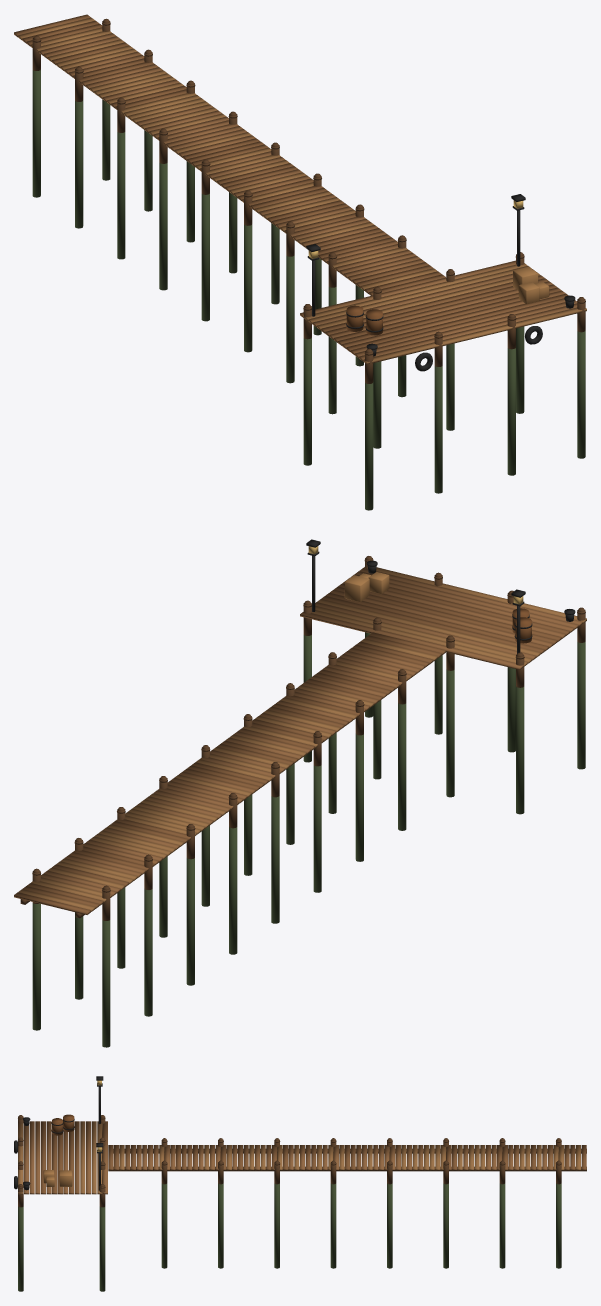
The model's file is pier.glb.
3 views of the same model, one above another, from view 1: azimuth 30°, elevation 25°; view 2: azimuth 150°, elevation 25°; view 3: azimuth 270°, elevation 25° (orthographic). The views are drawn at different scales.
Parts seen in each view (by area): view 1: Pier; view 2: Pier; view 3: Pier.
Part boxes in pixels (x1=…): Pier: x1=14, y1=14, x2=586, y2=510; Pier: x1=14, y1=539, x2=586, y2=1047; Pier: x1=14, y1=1076, x2=586, y2=1291.
Bounding box in the file's own units: 12.02 × 11.36 × 40.69.
